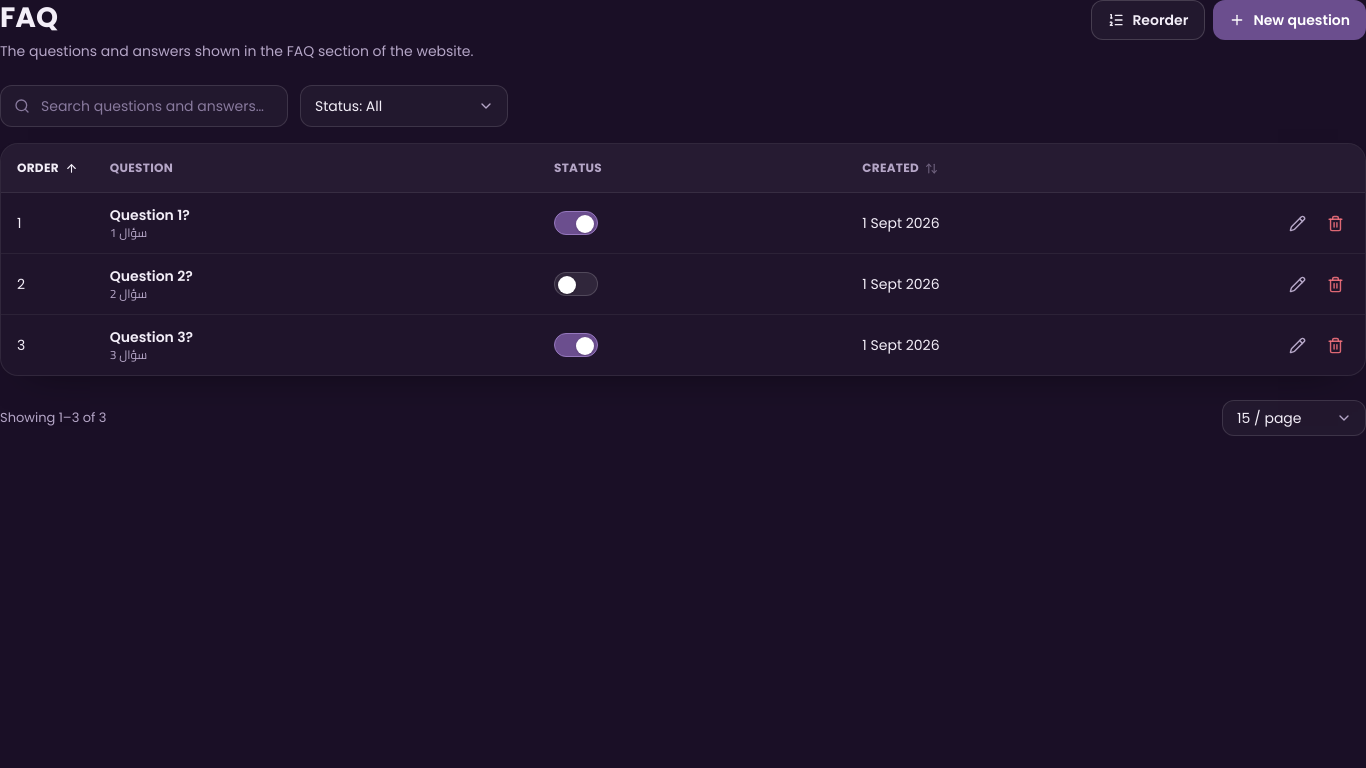
Test case: FaqList › delete › does nothing when the dialog is cancelled
Expected: the text "Question 2?" is shown, [110,266,193,286]
Click the button named "Delete" in the row of "Question 2?". click: (1335, 284)
box: [1317,266,1353,302]
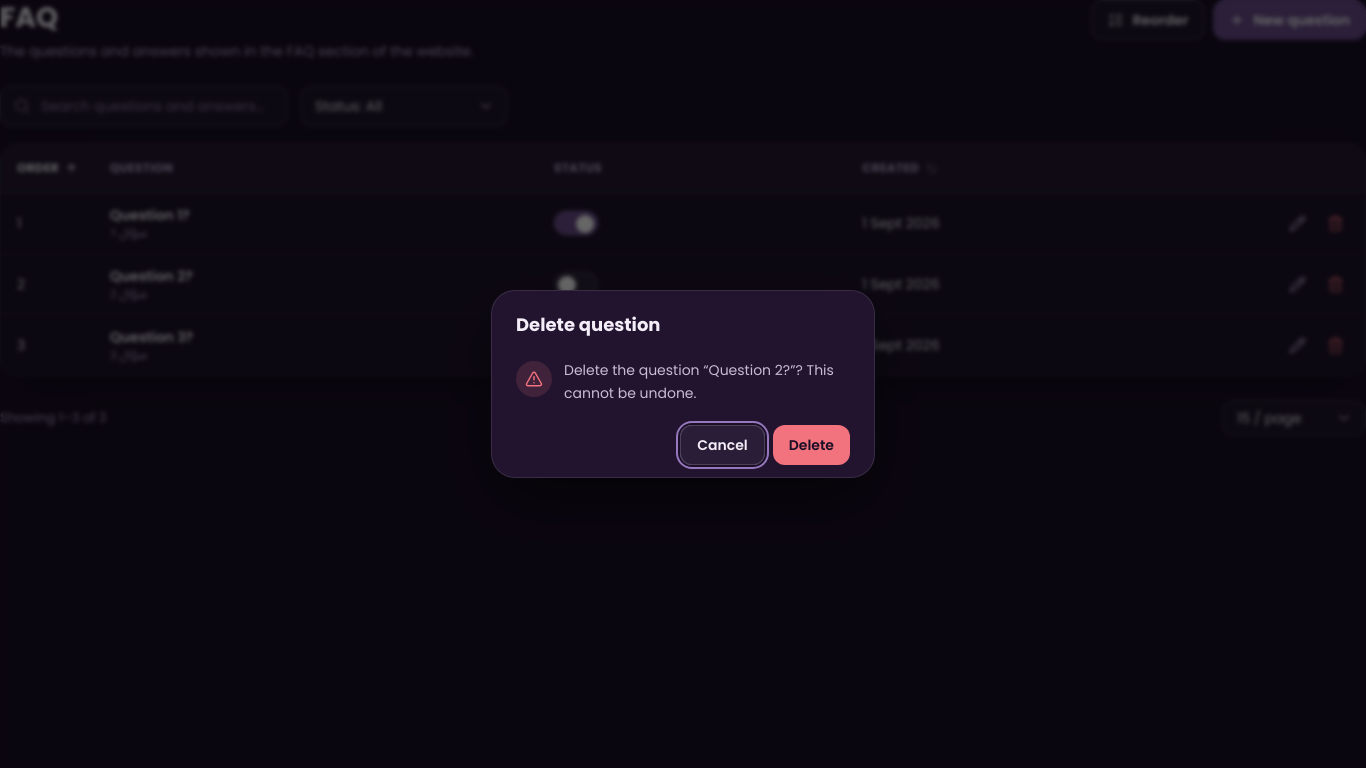
Click the button "Cancel". click: (723, 445)
box: [680,425,765,465]
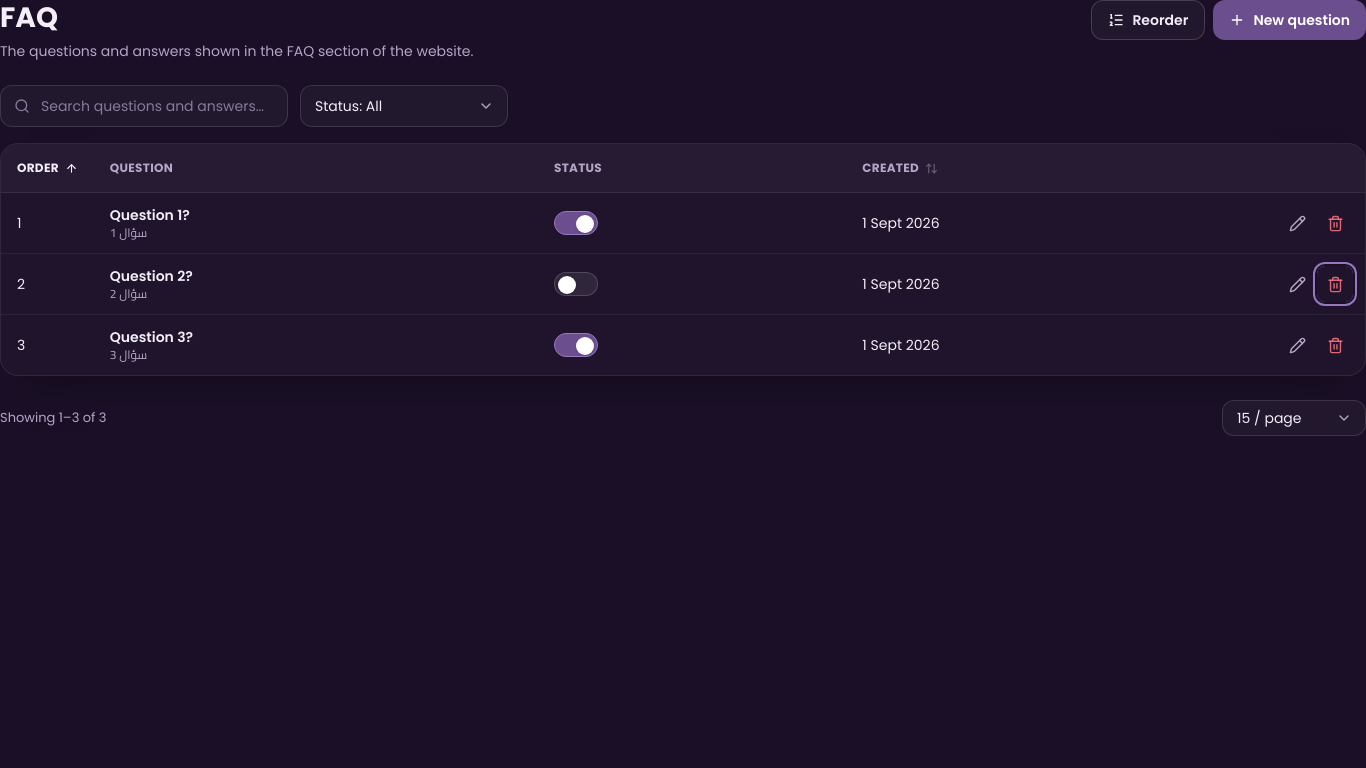
Result: the dialog is gone
